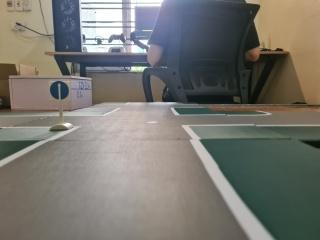straight: (48, 80, 70, 102)
